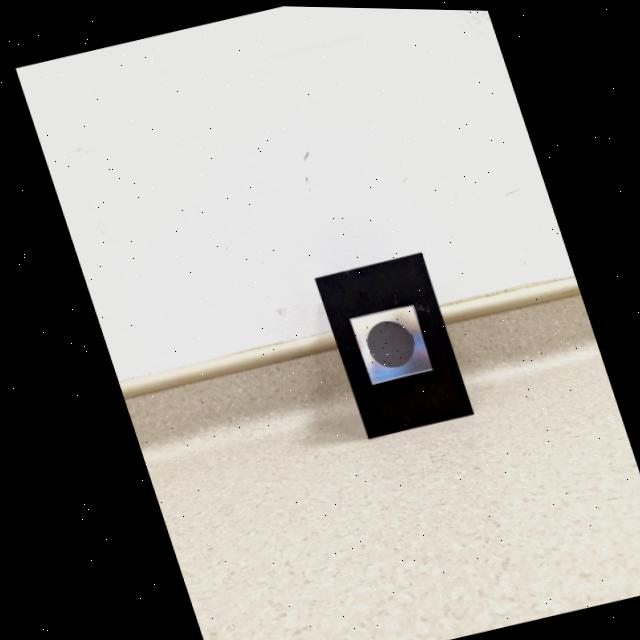CIRCLE: (359, 317, 408, 366)
